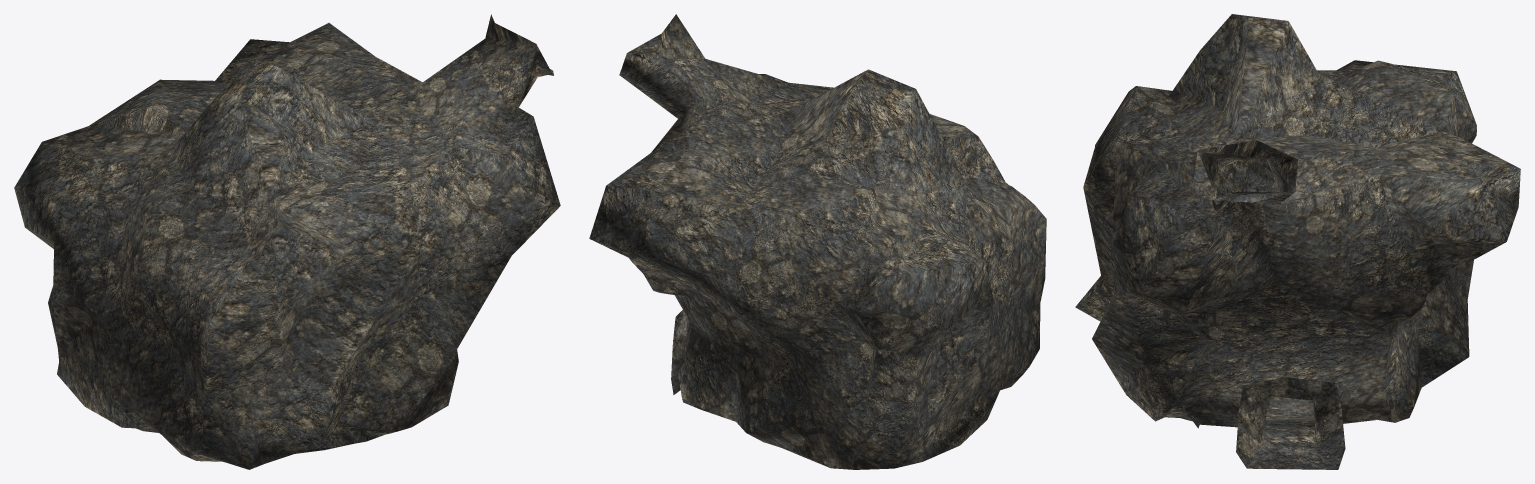
File: Module24A_LOD2.fbx
The picture shows the model from 3 angles, left to right: view 1: azimuth 30°, elevation 25°; view 2: azimuth 150°, elevation 25°; view 3: azimuth 270°, elevation 25°; orthographic projection. The views are drawn at different scales.
Parts seen in each view (by area): view 1: polySurface435; view 2: polySurface435; view 3: polySurface435.
Boxes of the visible parts, bbox=[...] form: polySurface435: bbox=[14, 14, 560, 469]; polySurface435: bbox=[589, 14, 1046, 469]; polySurface435: bbox=[1075, 14, 1520, 469].
Bounding box in the file's own units: 42.67 × 33.97 × 37.14.
